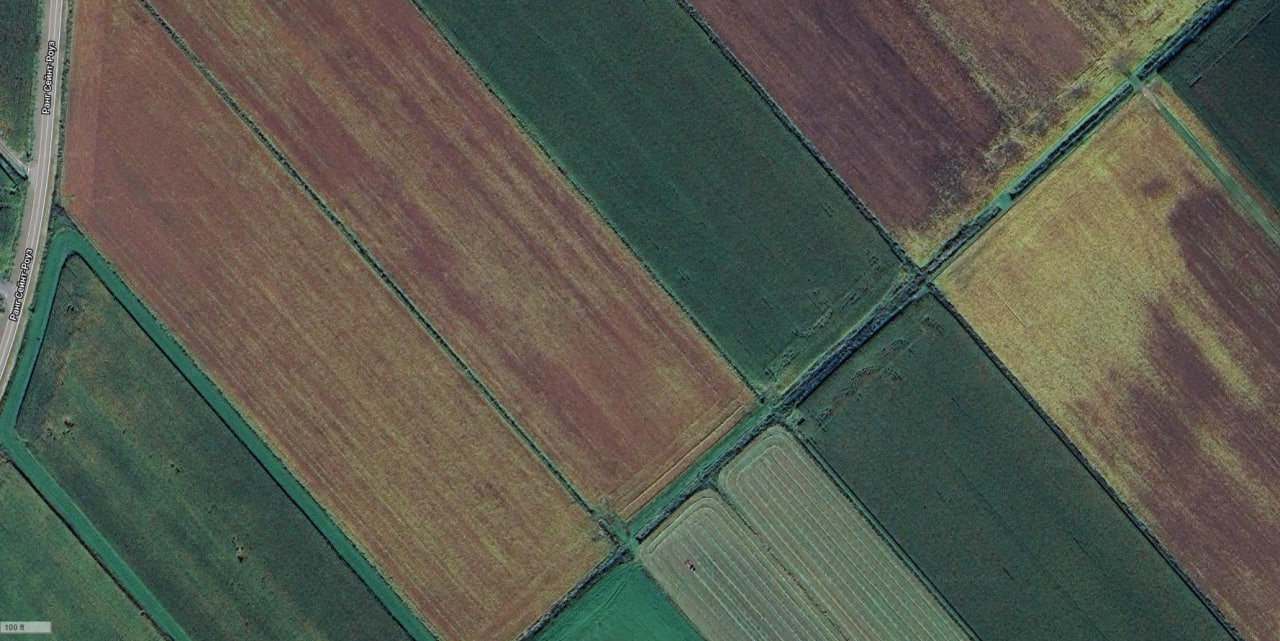Sown field: (422, 0, 903, 391), (17, 256, 410, 641), (794, 295, 1231, 641), (640, 426, 968, 641), (533, 563, 702, 641)
field: (62, 3, 608, 641), (159, 3, 752, 515), (936, 92, 1280, 641), (691, 0, 1204, 263), (1160, 0, 1280, 207), (1166, 88, 1175, 99), (1180, 105, 1188, 113)
